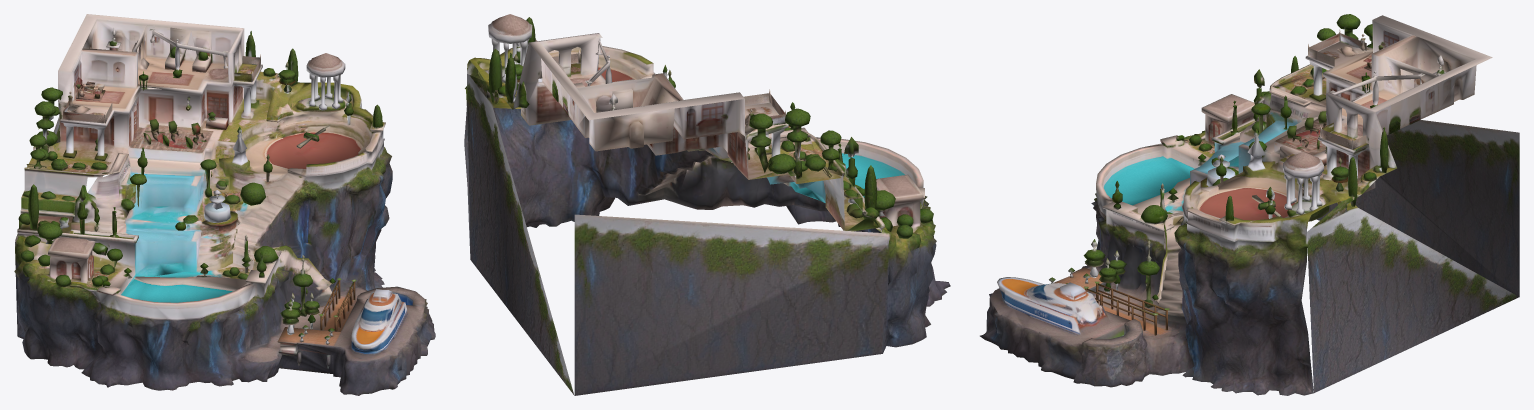
File: tier6-lv28.glb
The picture shows the model from 3 angles, left to right: view 1: azimuth 30°, elevation 25°; view 2: azimuth 150°, elevation 25°; view 3: azimuth 270°, elevation 25°; orthographic projection. The views are drawn at different scales.
Parts seen in each view (by area): view 1: tripo_node_1e42c18e-26d8-436f-9aee-464d86beedcf; view 2: tripo_node_1e42c18e-26d8-436f-9aee-464d86beedcf; view 3: tripo_node_1e42c18e-26d8-436f-9aee-464d86beedcf.
Boxes of the visible parts, <box> form: tripo_node_1e42c18e-26d8-436f-9aee-464d86beedcf: <box>14,14,435,395</box>; tripo_node_1e42c18e-26d8-436f-9aee-464d86beedcf: <box>464,14,950,395</box>; tripo_node_1e42c18e-26d8-436f-9aee-464d86beedcf: <box>980,14,1519,395</box>.
Bounding box in the file's own units: 1.02 × 0.6113 × 1.2.
1 material, 1 textured.
